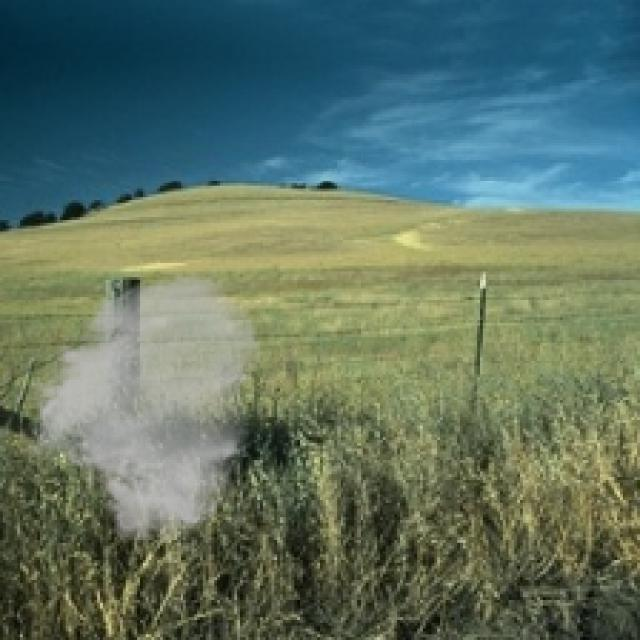Smoke: (23, 268, 263, 546)
